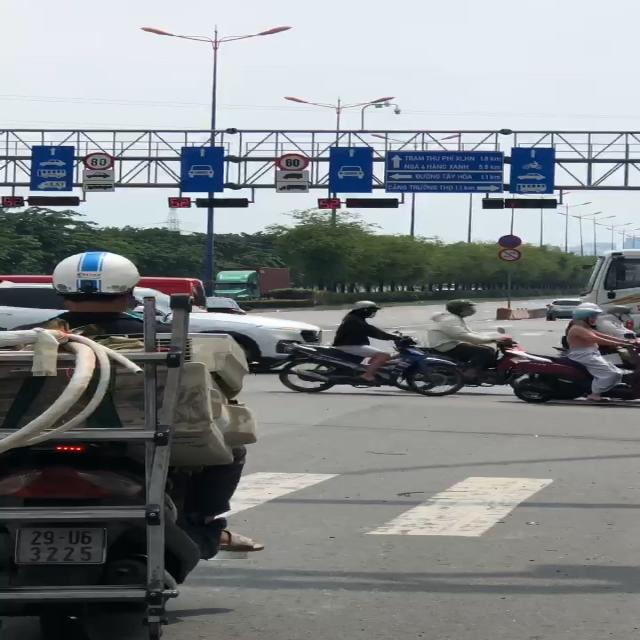Bien bao toc do toi da cho phep: (272, 153, 310, 172), (79, 152, 118, 170)
